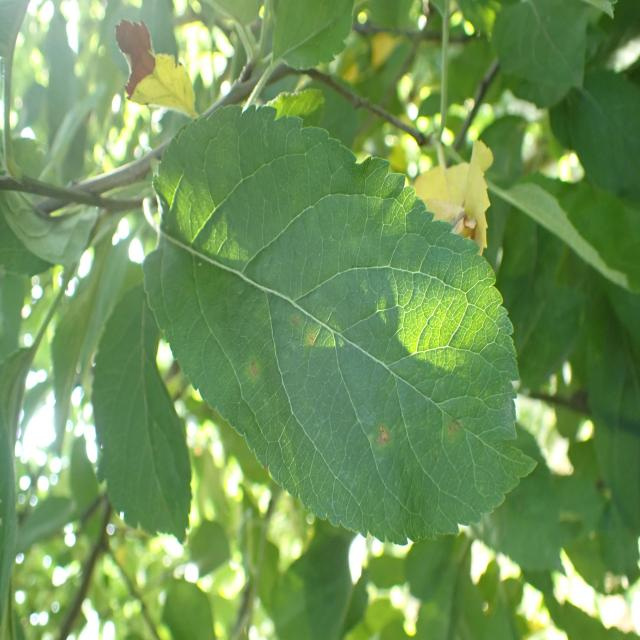scab: (161, 142, 492, 522)
